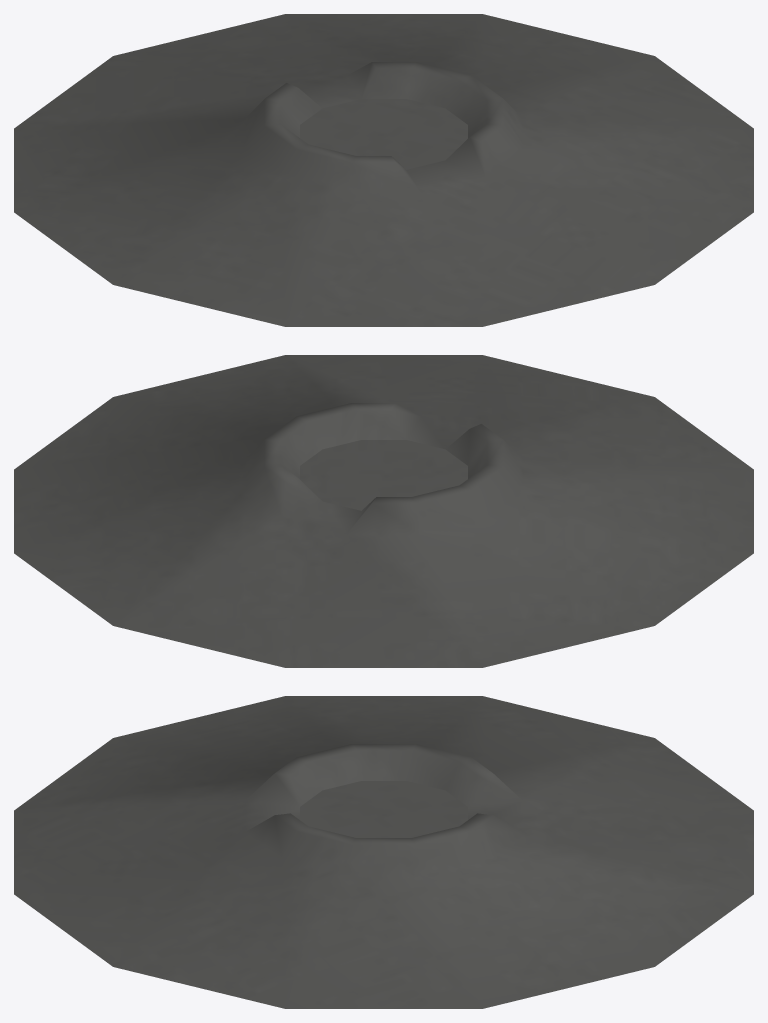
File: landing zone.obj
3 renders of one model, top to bottom at view 1: azimuth 30°, elevation 25°; view 2: azimuth 150°, elevation 25°; view 3: azimuth 270°, elevation 25°, orthographic.
Visible parts, largest first — view 1: Circle; view 2: Circle; view 3: Circle.
Part boxes in pixels (left/top/right/bottom): Circle: left=14, top=14, right=753, bottom=326; Circle: left=14, top=355, right=753, bottom=667; Circle: left=14, top=696, right=753, bottom=1008.
Bounding box in the file's own units: 17.02 × 1.48 × 17.02.
